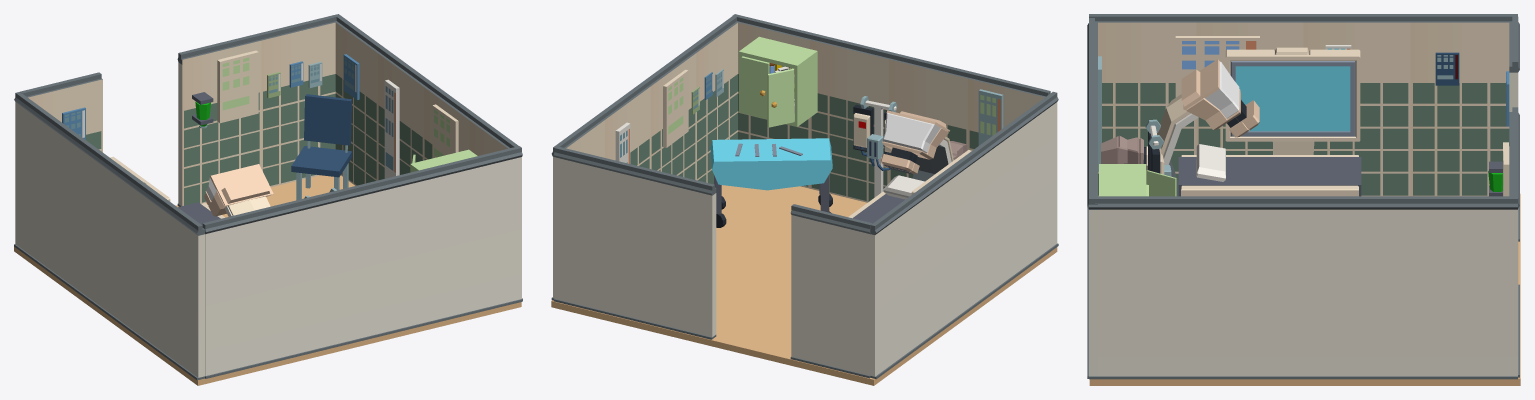
The model's file is g_o_RoomHeartAttackTreatment.fbx.
3 renders of one model, left to right at view 1: azimuth 30°, elevation 25°; view 2: azimuth 150°, elevation 25°; view 3: azimuth 270°, elevation 25°, orthographic. The views are drawn at different scales.
Visible parts, largest first — view 1: Angioplasty_room2; view 2: Angioplasty_room2; view 3: Angioplasty_room2.
Boxes of the visible parts, x1,y1,x2,y2 form: Angioplasty_room2: (14,14,522,385); Angioplasty_room2: (551,14,1058,385); Angioplasty_room2: (1087,14,1520,385).
Size of the model in its own units: 411 by 192 by 404.
